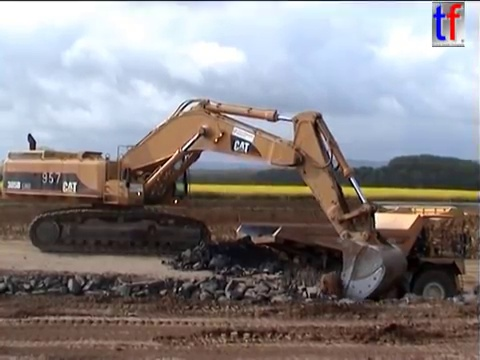excavator: (1, 95, 410, 308)
truck: (233, 200, 475, 318)
